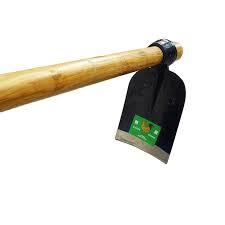HOUE: (0, 38, 187, 173)
